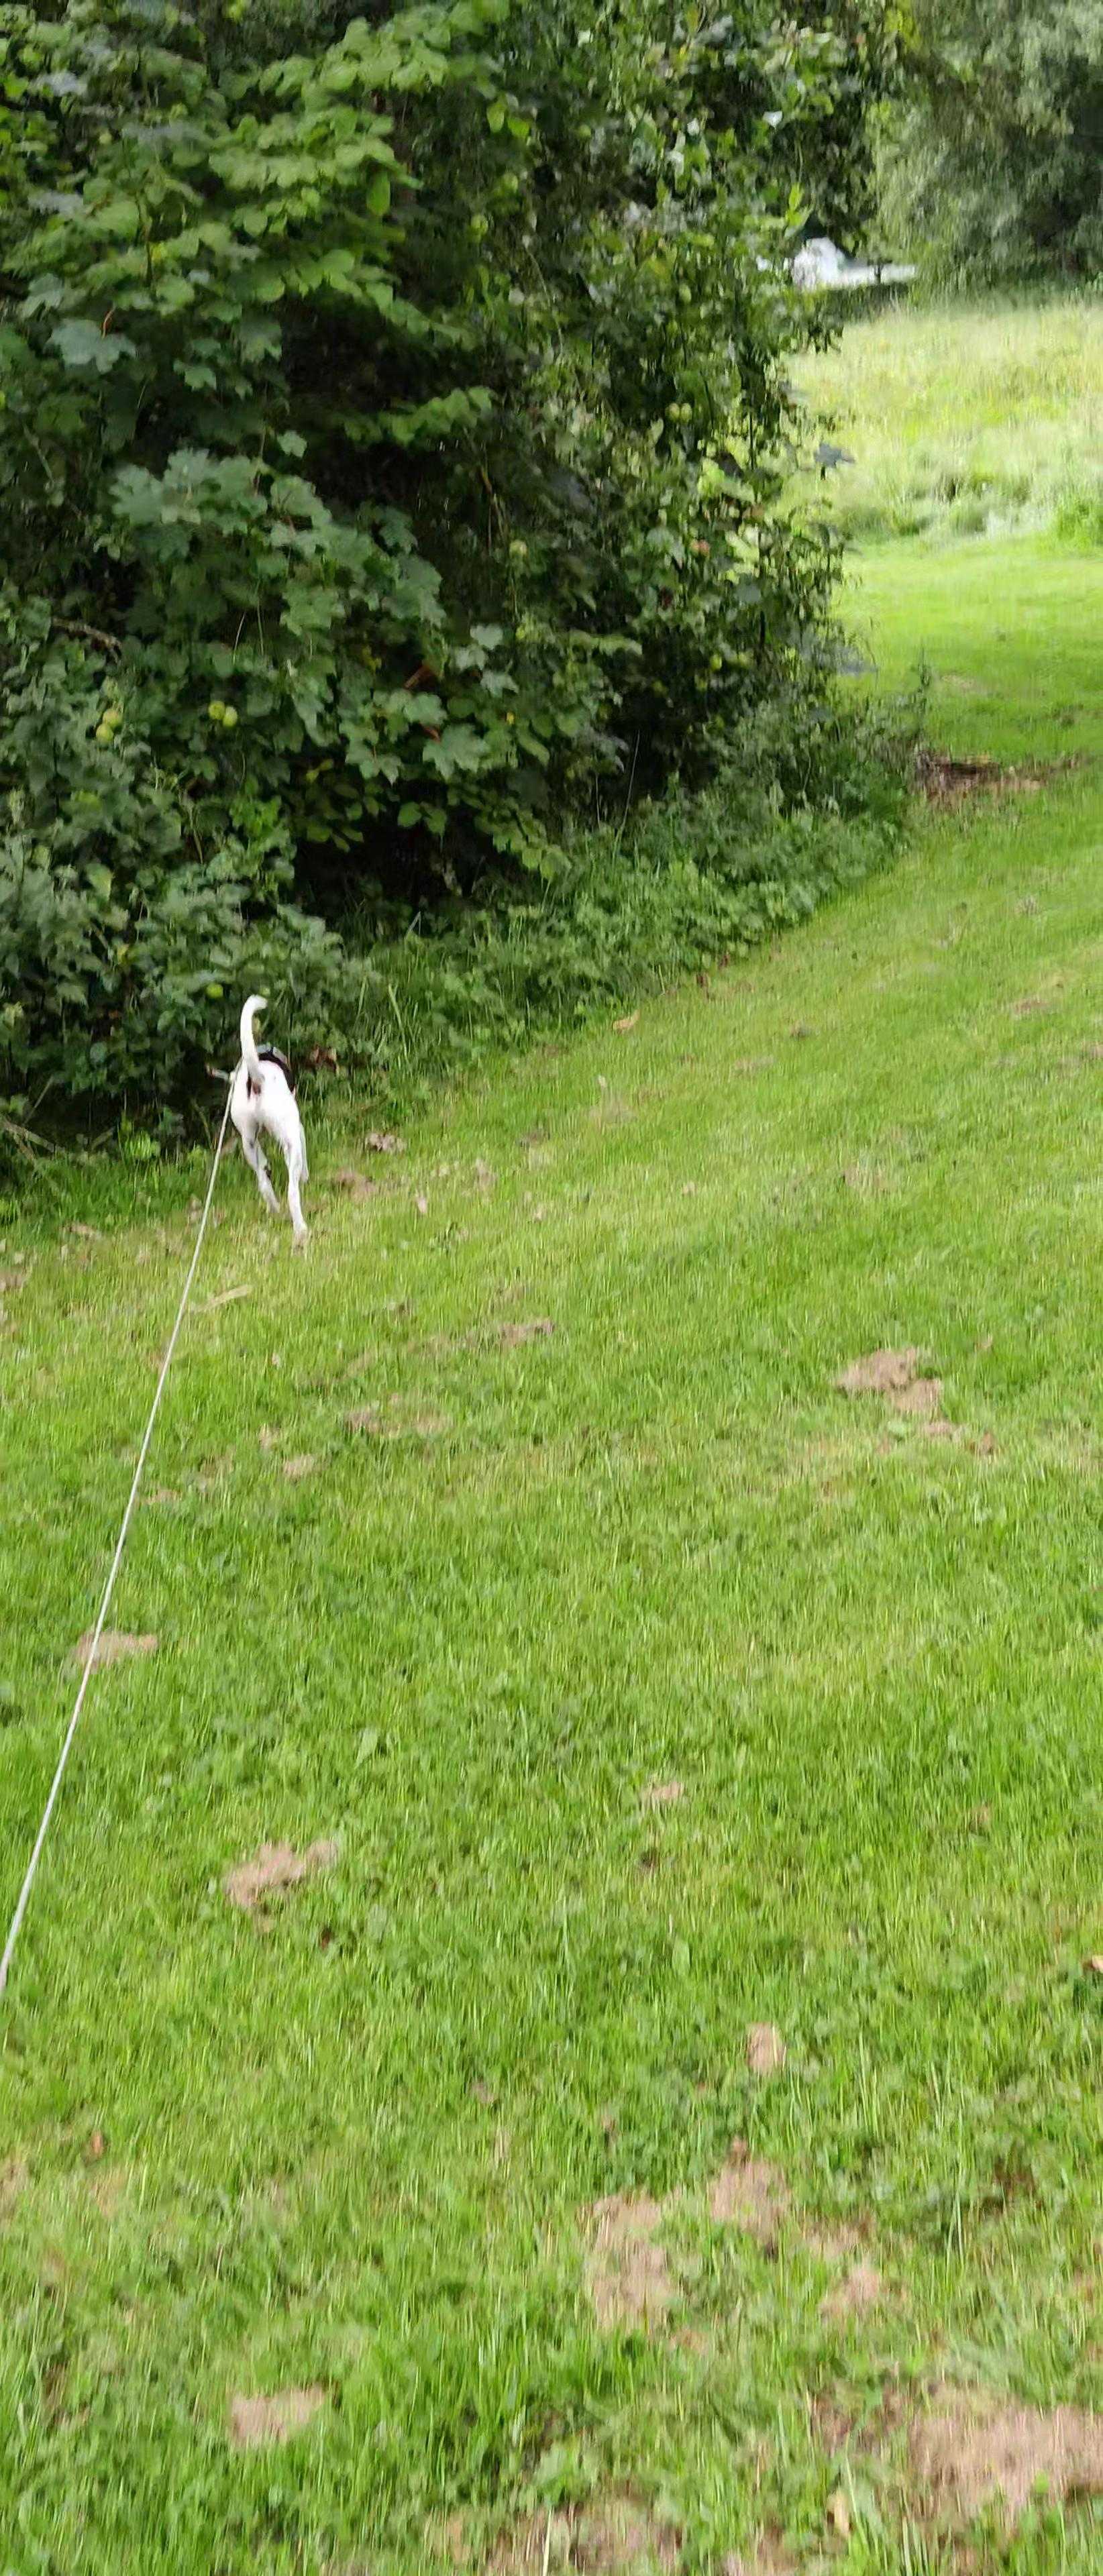Dog: (202, 977, 329, 1247)
